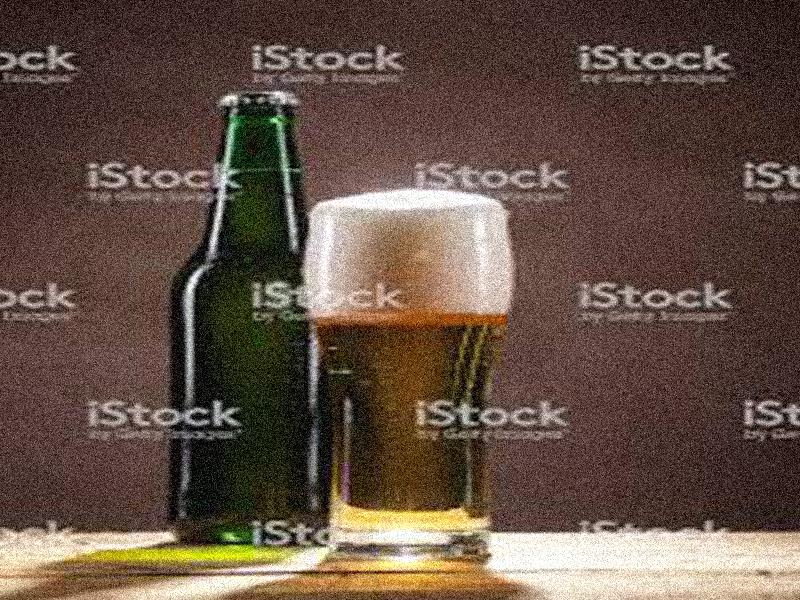Beer: (166, 92, 333, 547)
